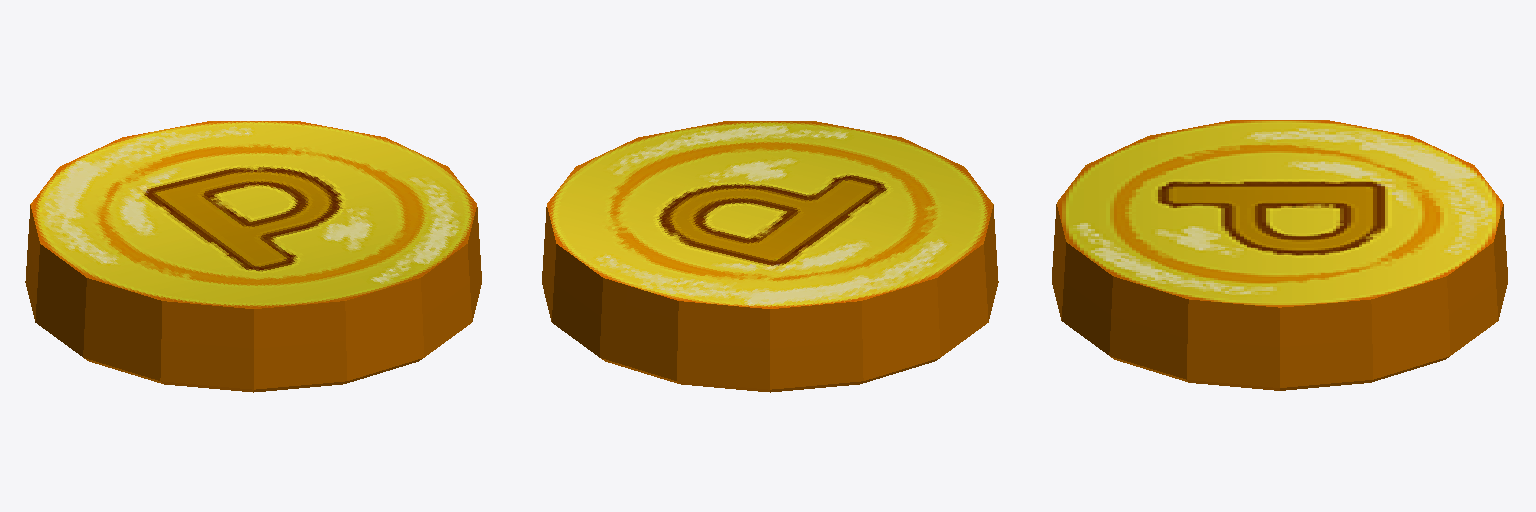
The picture shows the model from 3 angles: view 1: azimuth 30°, elevation 25°; view 2: azimuth 150°, elevation 25°; view 3: azimuth 270°, elevation 25°; orthographic projection.
Visible parts, largest first — view 1: poke; view 2: poke; view 3: poke.
Part boxes in pixels (left/top/right/bottom): poke: left=25, top=121, right=481, bottom=392; poke: left=542, top=121, right=998, bottom=392; poke: left=1052, top=120, right=1507, bottom=390.
Bounding box in the file's own units: 2.4 × 0.4911 × 2.41.
1 materials, 1 textured.